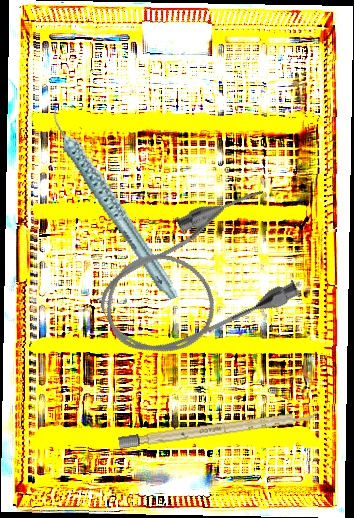Cannula: (80, 178, 312, 378)
Handpiece: (48, 90, 181, 317)
Scalpel Handle: (118, 409, 319, 449)
